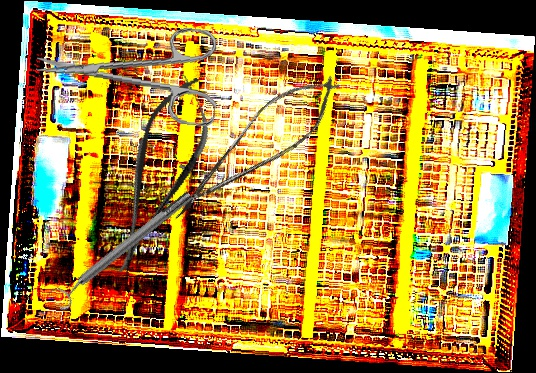Fixation Ring: (46, 185, 200, 313)
Iris Scissors: (31, 12, 224, 128)
Micro Scissor: (154, 58, 355, 238), (90, 67, 228, 284)
